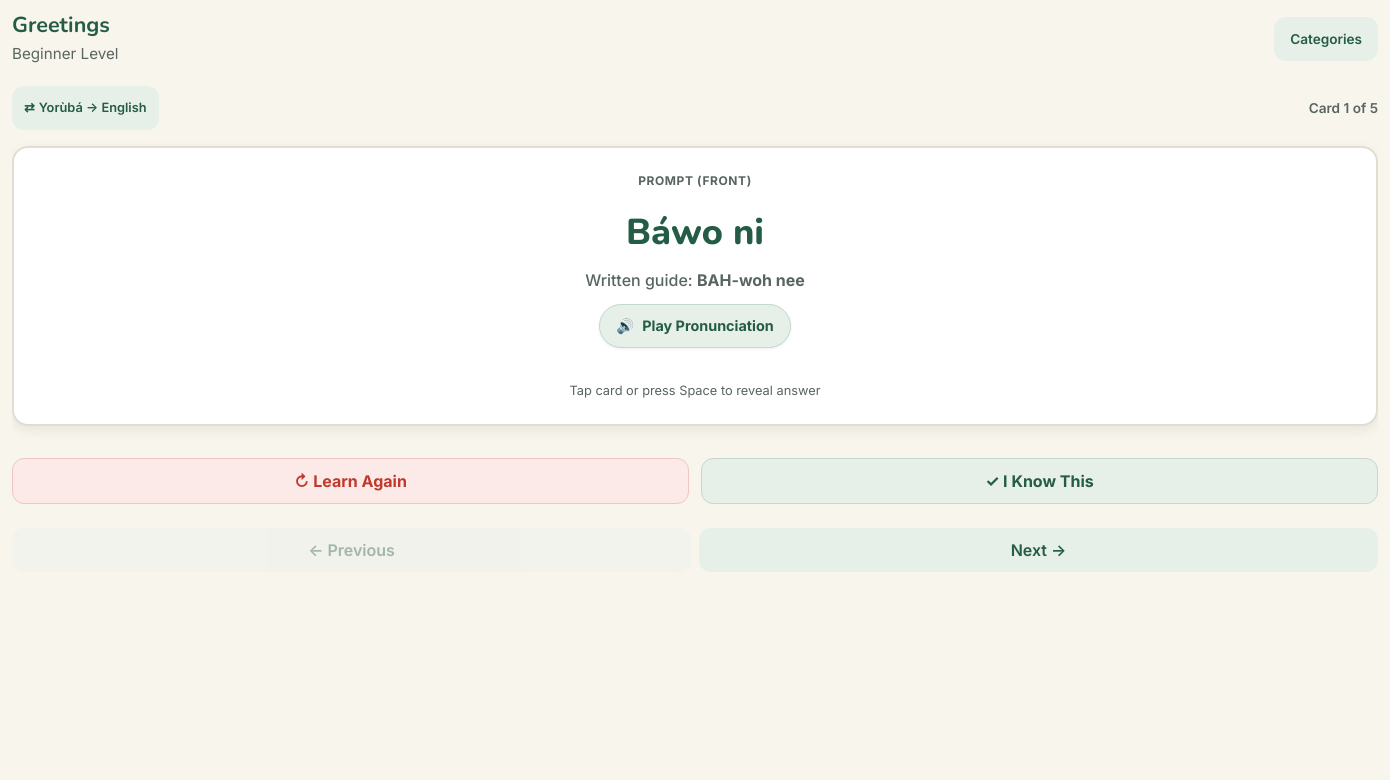
Test: Interactive Flashcards Screen › switches direction between Yoruba → English and English → Yoruba and resets to front
Later steps or results of the test are not shown.
expect the text "Báwo ni" is shown: met, box [626,208,764,257]
Note: Flip card to reveal answer
Click the button with aria-label "Flashcard: Báwo ni": (695,409) [12,146,1378,426]
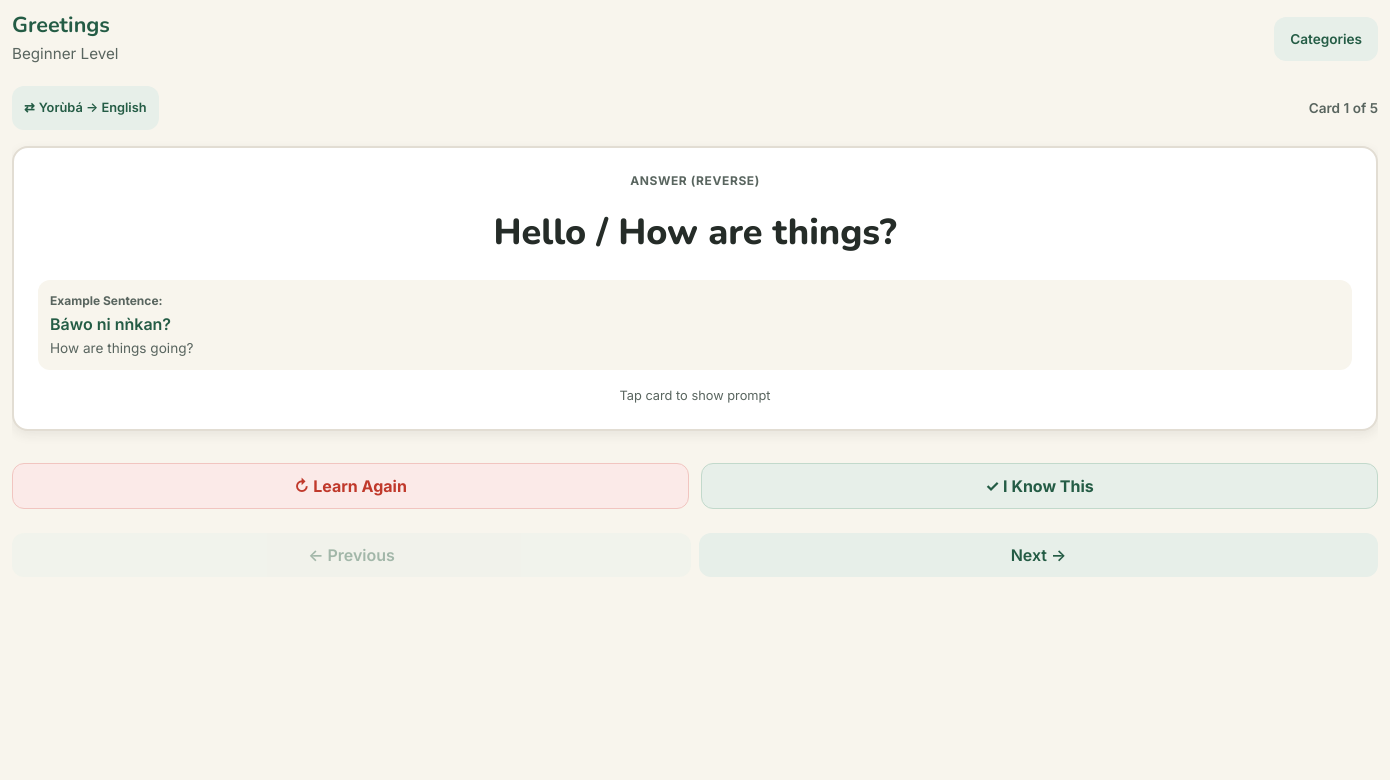
expect the text "Hello / How are things?" is shown: met, box [493,208,896,257]
